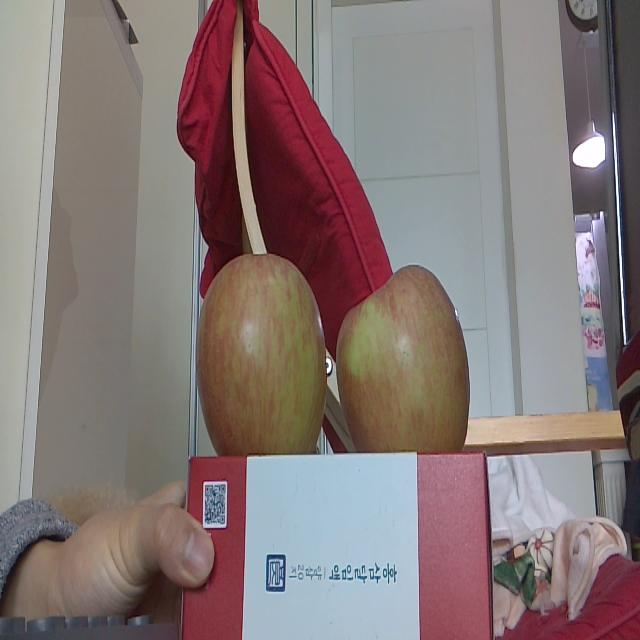apple: (334, 253, 474, 454), (194, 248, 328, 451)
